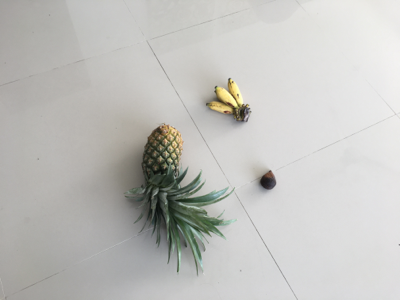banana: (206, 78, 252, 122)
pineapple: (126, 123, 234, 276)
snake fruit: (260, 170, 277, 191)
